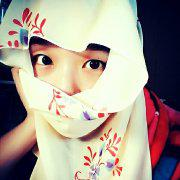WRONG: (26, 40, 114, 128)
